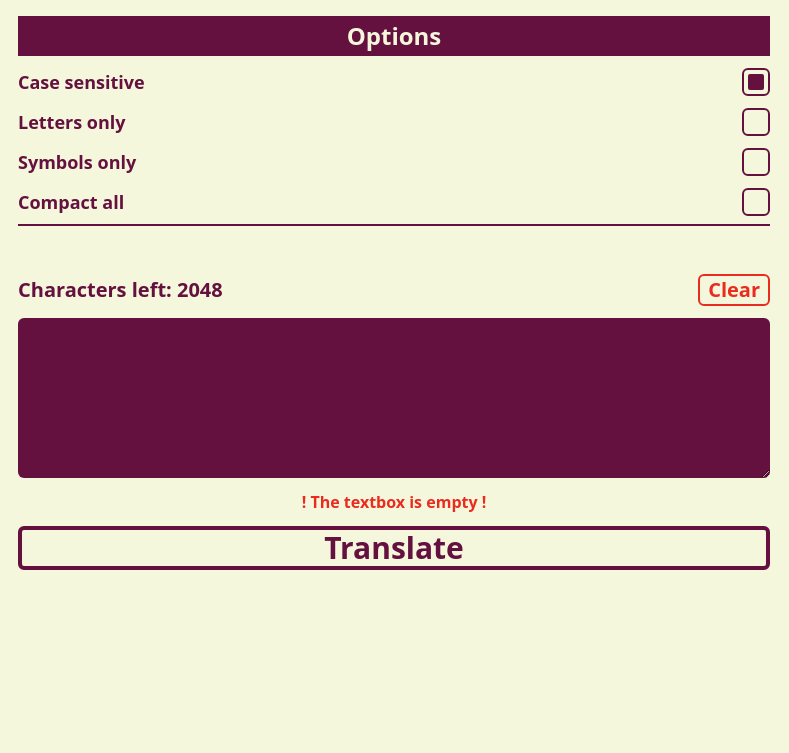
Test: App › should display words frequency in the descending order
The width and height of the screenshot is (789, 753).
In the text box: (394, 398) left=18, top=318, right=770, bottom=478, type "one two two three three three"
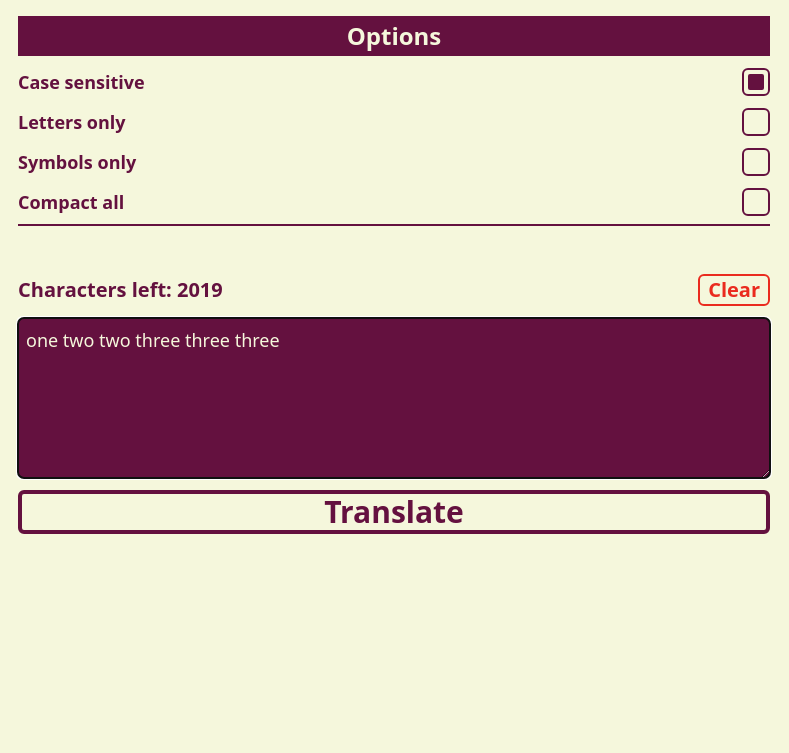
Click the button "Translate": (394, 512) left=18, top=490, right=770, bottom=534
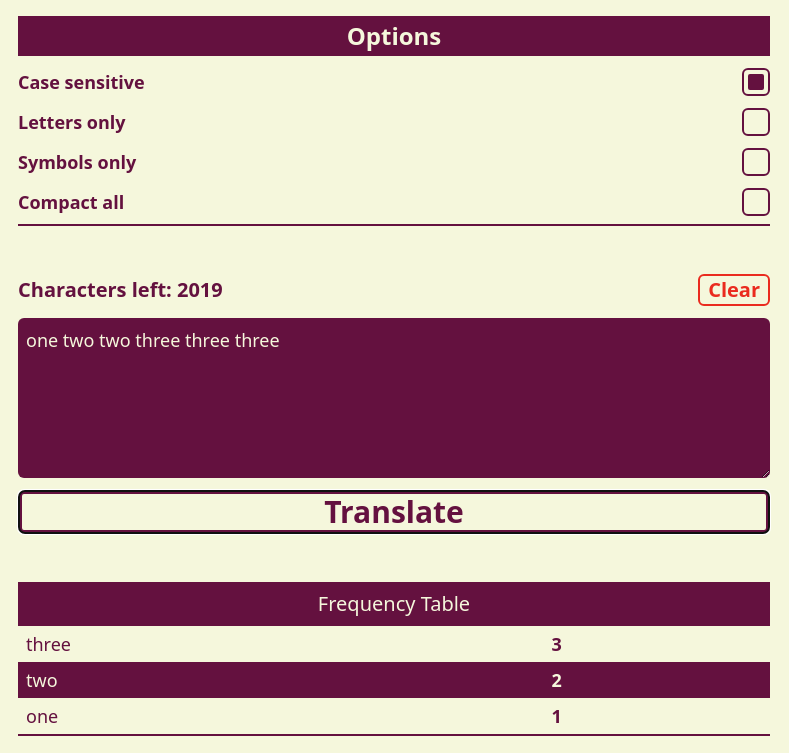
Check: the row "three 3" is shown, box left=18, top=626, right=770, bottom=662
Check: the row "two 2" is shown, box left=18, top=662, right=770, bottom=698
Check: the row "one 1" is shown, box left=18, top=698, right=770, bottom=735
